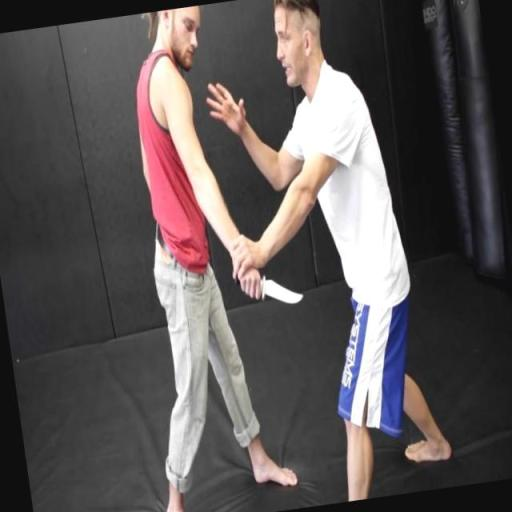knife: (230, 261, 309, 320)
